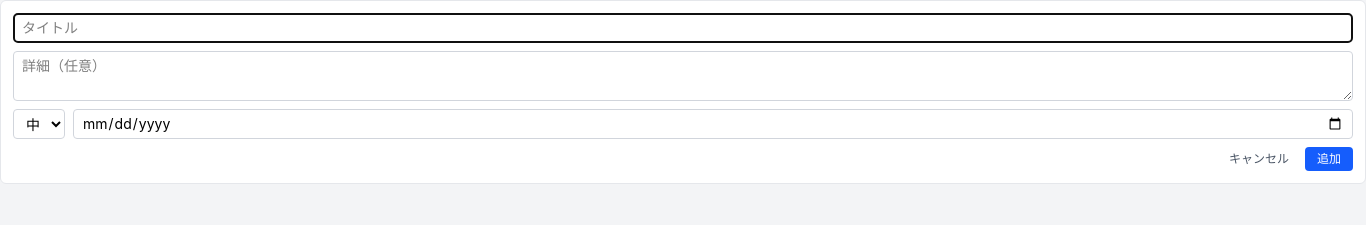
Scenario: NewTaskForm › タイトル未入力で送信するとエラーメッセージを表示しonSubmitを呼ばない
The image size is (1366, 225).
Click the button "追加": {"x": 1329, "y": 159} [1305,147,1353,171]
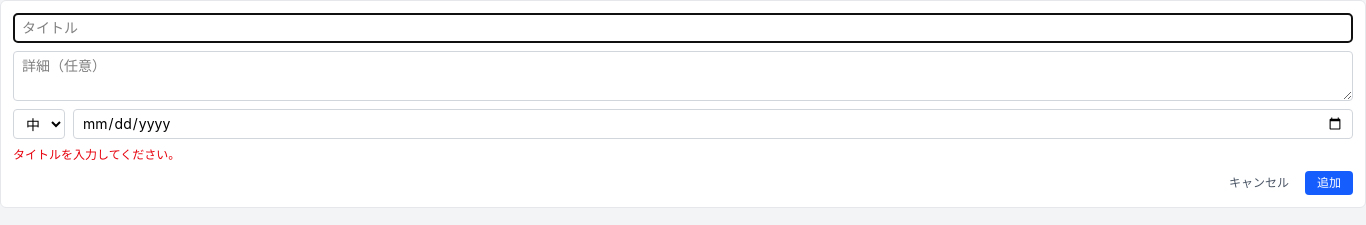
Now the text "タイトルを入力してください。" is shown, box [13,147,180,162]
